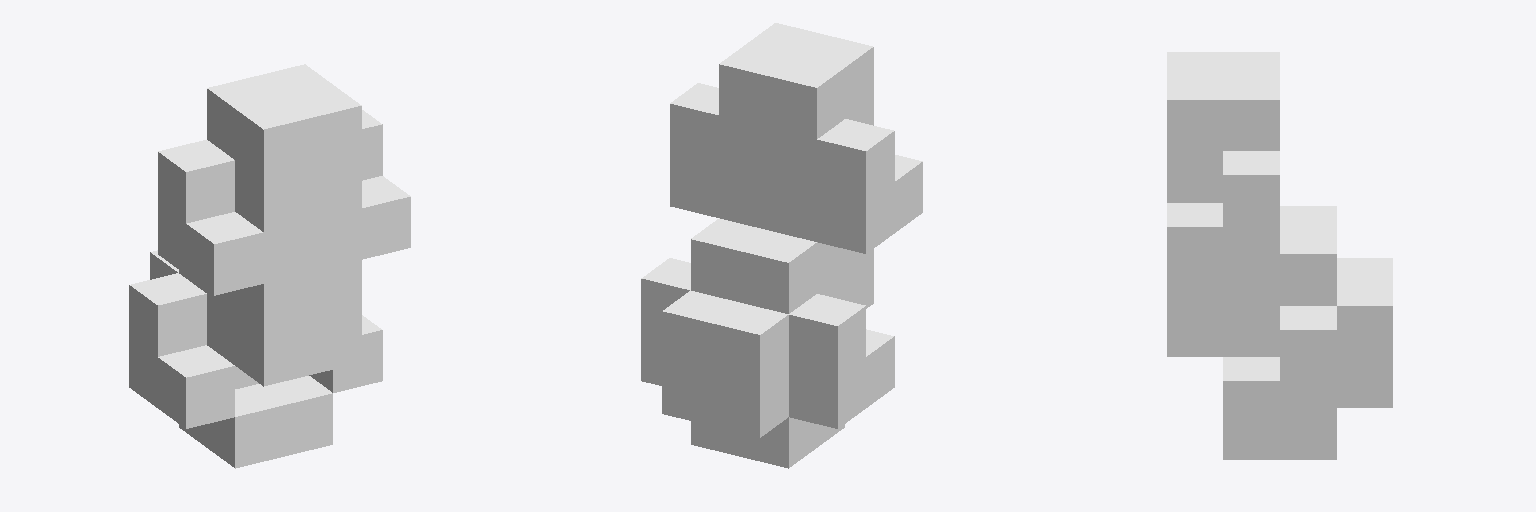
Rendered from scummBarLady01_head.obj.
3 views of the same model, side by side, from view 1: azimuth 30°, elevation 25°; view 2: azimuth 150°, elevation 25°; view 3: azimuth 270°, elevation 25° (orthographic).
Size of the model in its own units: 4 by 7 by 4.